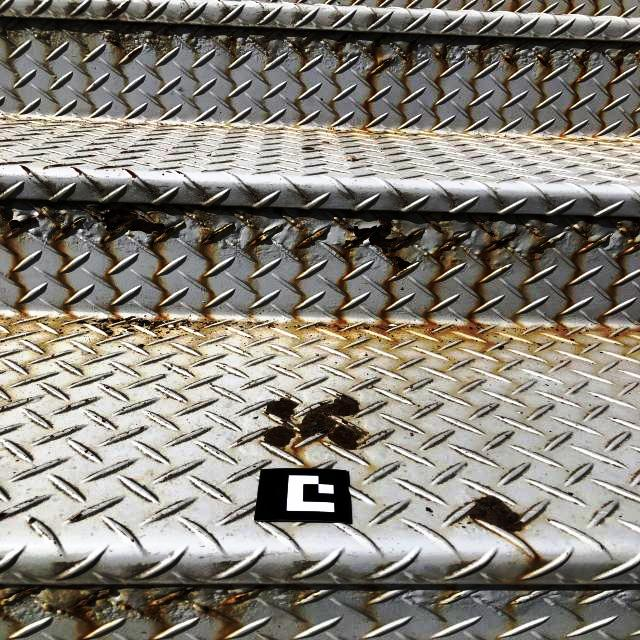Corrosion: (264, 394, 369, 455), (332, 217, 423, 283), (91, 206, 175, 242), (63, 588, 113, 640), (467, 495, 523, 532), (362, 33, 393, 86), (221, 584, 269, 609), (610, 43, 639, 78), (572, 42, 602, 71), (105, 37, 142, 60), (572, 226, 603, 253), (200, 224, 234, 245), (7, 214, 37, 235), (485, 235, 517, 253), (435, 235, 460, 258), (57, 219, 82, 238), (616, 219, 640, 238), (335, 34, 351, 60), (530, 239, 553, 257), (476, 222, 498, 238), (10, 586, 37, 599), (435, 45, 448, 72), (290, 43, 308, 60), (296, 232, 311, 252), (250, 234, 269, 248), (536, 53, 550, 68), (503, 54, 517, 68), (177, 588, 195, 596), (407, 38, 420, 48), (431, 224, 445, 232), (201, 605, 212, 615), (111, 7, 121, 15), (629, 243, 640, 249), (634, 52, 640, 63), (315, 231, 324, 237), (300, 147, 316, 150), (322, 141, 330, 144)
